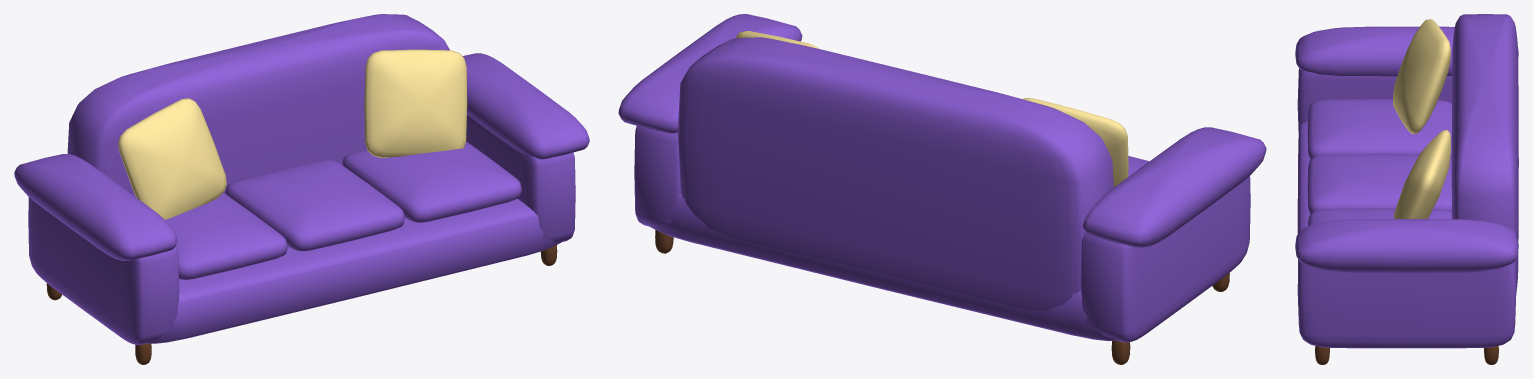
The model's file is sofa_encosto_inteiro_roxo.glb.
3 views of the same model, side by side, from view 1: azimuth 30°, elevation 25°; view 2: azimuth 150°, elevation 25°; view 3: azimuth 270°, elevation 25° (orthographic). The views are drawn at different scales.
Visible parts, largest first — view 1: sofa_encosto_inteiro_roxo; view 2: sofa_encosto_inteiro_roxo; view 3: sofa_encosto_inteiro_roxo.
Boxes of the visible parts, <box> form: sofa_encosto_inteiro_roxo: <box>14,14,589,364</box>; sofa_encosto_inteiro_roxo: <box>618,14,1266,364</box>; sofa_encosto_inteiro_roxo: <box>1295,14,1518,364</box>.
Bounding box in the file's own units: 2.12 × 0.86 × 0.9.
Materials: 1 (1 with a texture image).
